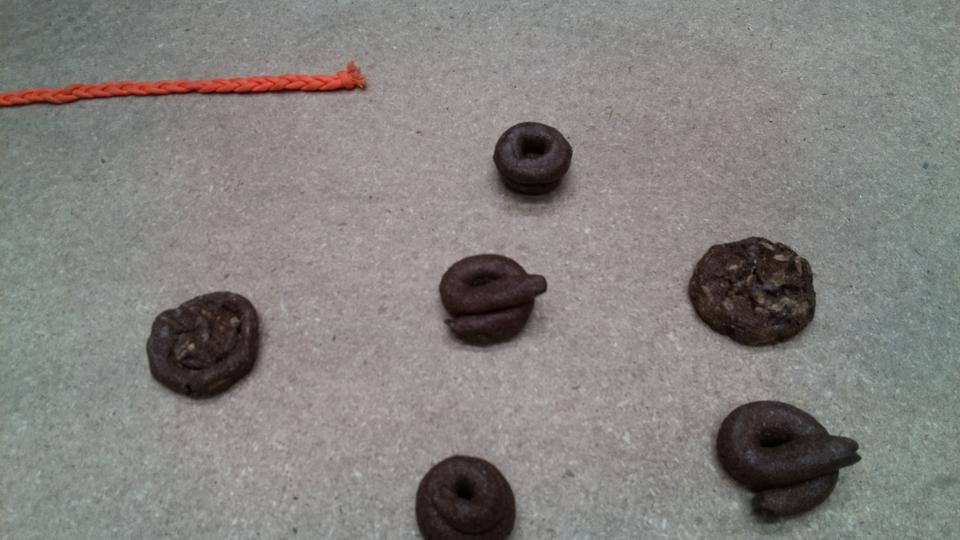poop: (713, 397, 865, 524), (684, 233, 820, 352), (144, 288, 264, 403), (438, 251, 550, 348), (412, 451, 519, 540), (490, 118, 576, 198)
rope: (1, 55, 373, 108)
